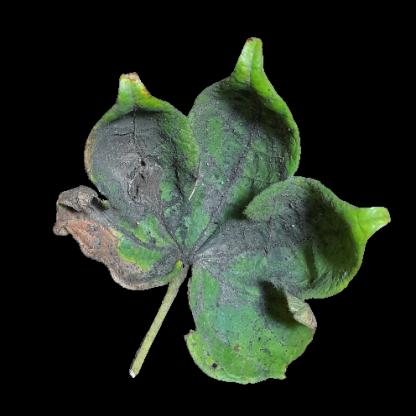curl_stage1: (346, 208, 387, 233)
sooty: (109, 119, 202, 260), (214, 200, 334, 275), (215, 93, 279, 203)
